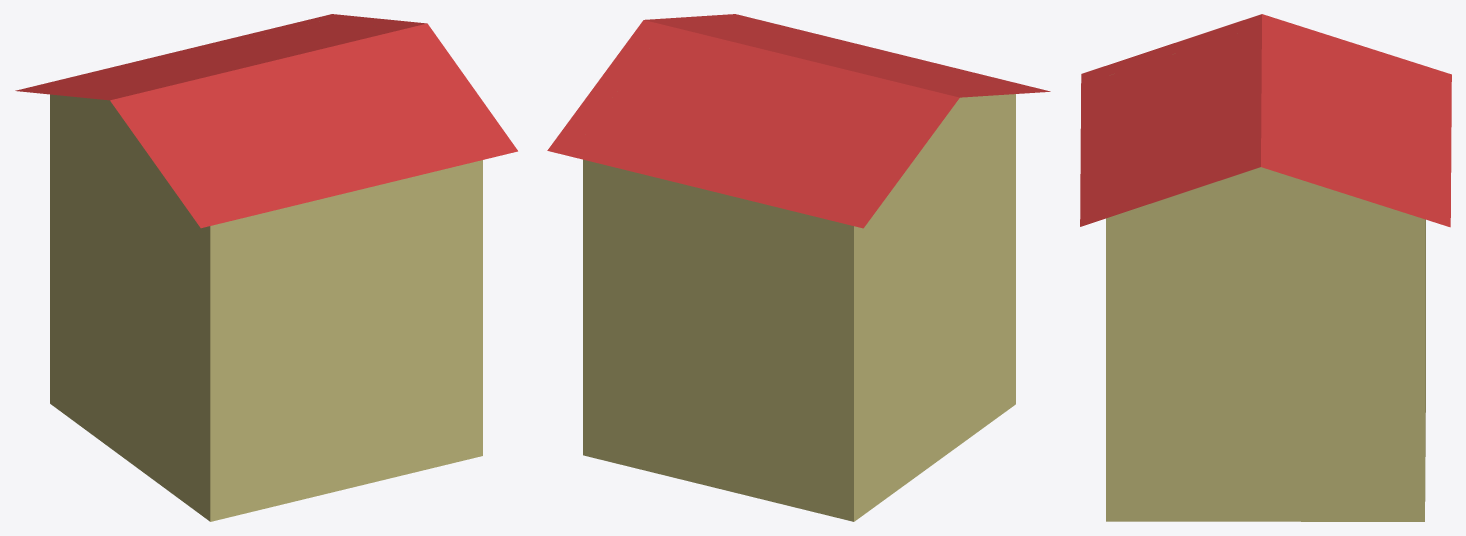
3 views of the same model, side by side, from view 1: azimuth 30°, elevation 25°; view 2: azimuth 150°, elevation 25°; view 3: azimuth 270°, elevation 25° (orthographic).
Size of the model in its own units: 10.55 by 10.8 by 11.72.
